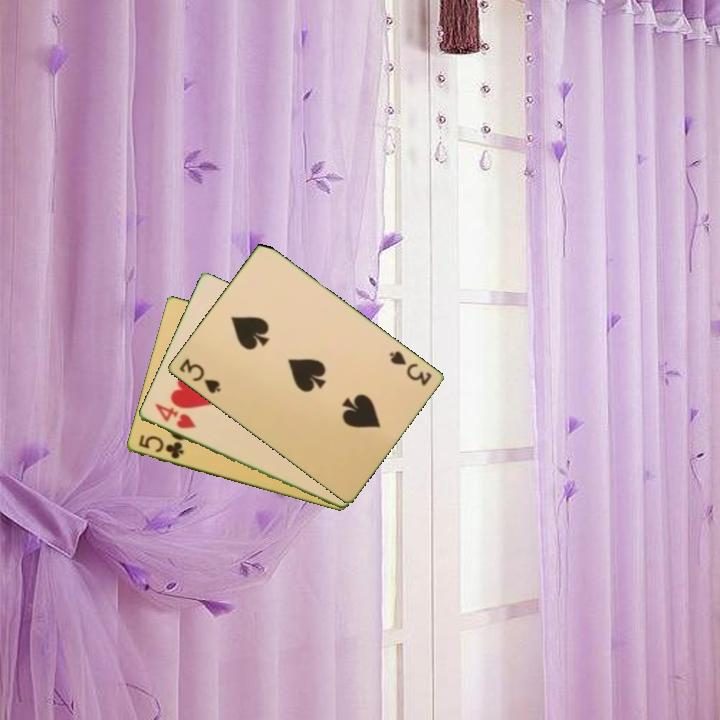3s: (175, 355, 224, 397), (385, 347, 434, 389)
4h: (151, 400, 199, 432)
5c: (135, 431, 186, 462)
